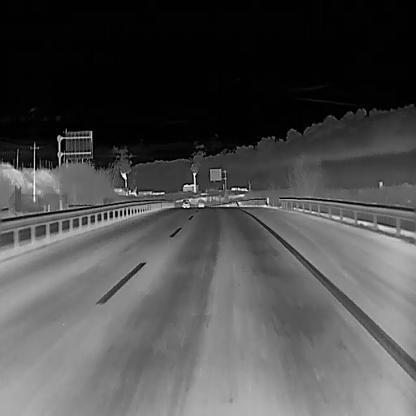car: (181, 198, 189, 208), (196, 198, 204, 207)
